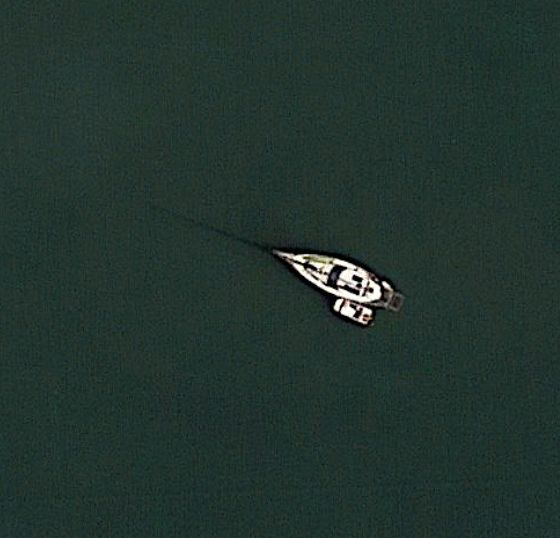boat: (260, 242, 396, 327)
